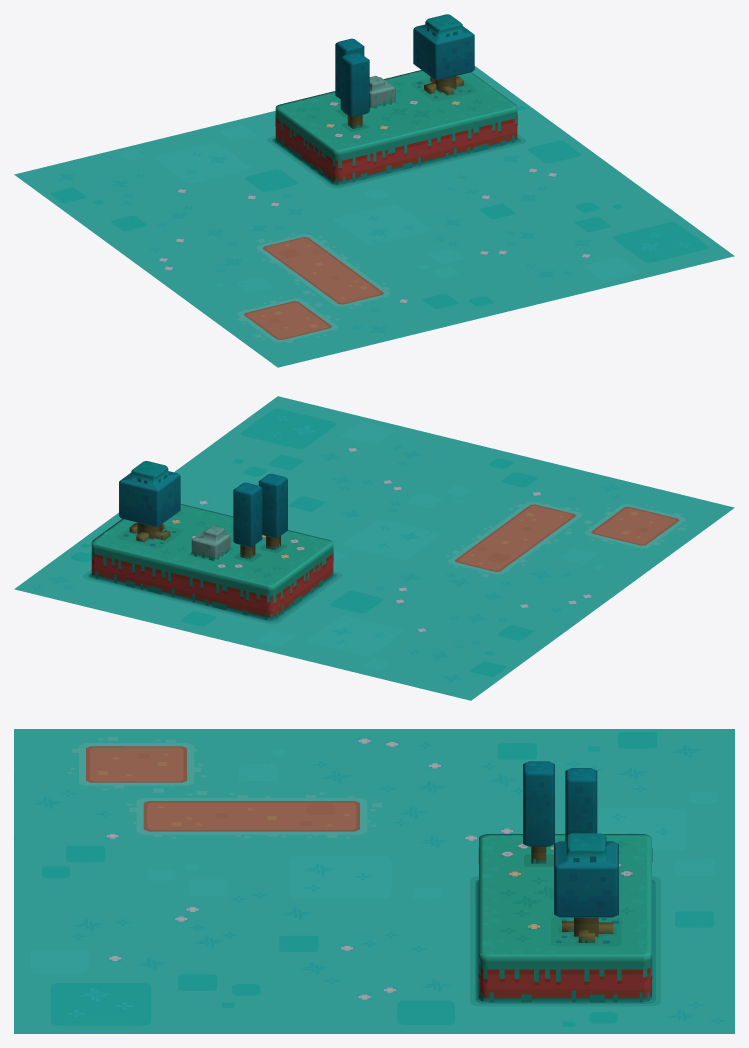
Rendered from C_forest1_01.fbx.
3 views of the same model, one above another, from view 1: azimuth 30°, elevation 25°; view 2: azimuth 150°, elevation 25°; view 3: azimuth 270°, elevation 25° (orthographic). The views are drawn at different scales.
Parts seen in each view (by area): view 1: C_forest1_01.002; view 2: C_forest1_01.002; view 3: C_forest1_01.002.
Part boxes in pixels (x1,y1,x2,y2): C_forest1_01.002: (14, 14, 734, 367); C_forest1_01.002: (14, 396, 734, 700); C_forest1_01.002: (14, 729, 734, 1033).
Size of the model in its own units: 50 by 10.9 by 50.
Materials: 1 (1 with a texture image).
